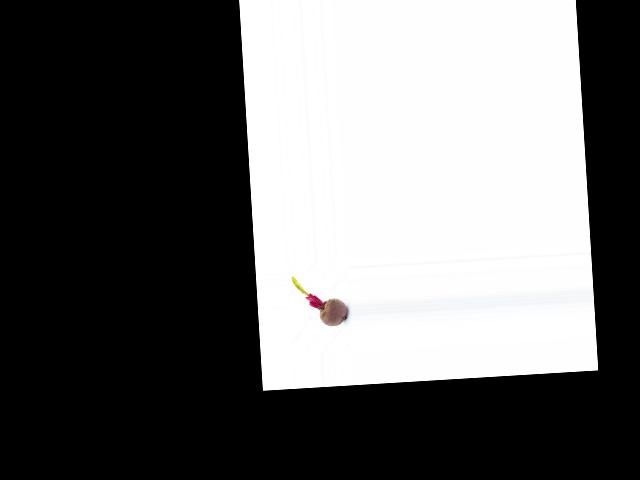beet: (292, 274, 347, 329)
